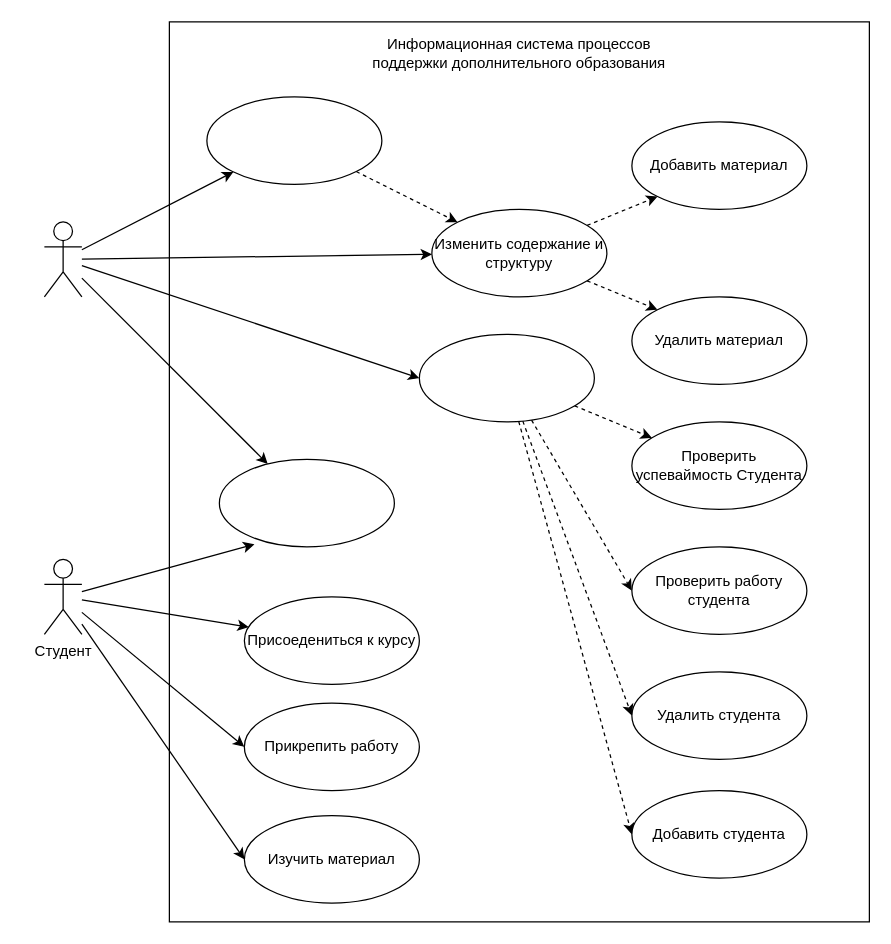
Image size: 891x944. Some labels were removed from this diagram. Here are the shapes that lost their labels. From the top down, the box of each, then its label:
(206, 96, 382, 184): Создать курс
(43, 221, 82, 297): Автор курса
(418, 333, 594, 422): Управлять студентами курса
(218, 458, 394, 547): Зарегестрироваться
